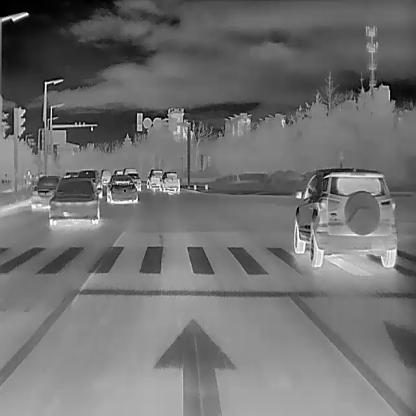car: (293, 161, 397, 267), (48, 177, 102, 225), (30, 174, 61, 209), (106, 174, 138, 203), (75, 169, 102, 197), (159, 172, 180, 193), (146, 168, 163, 189), (126, 171, 141, 191)
